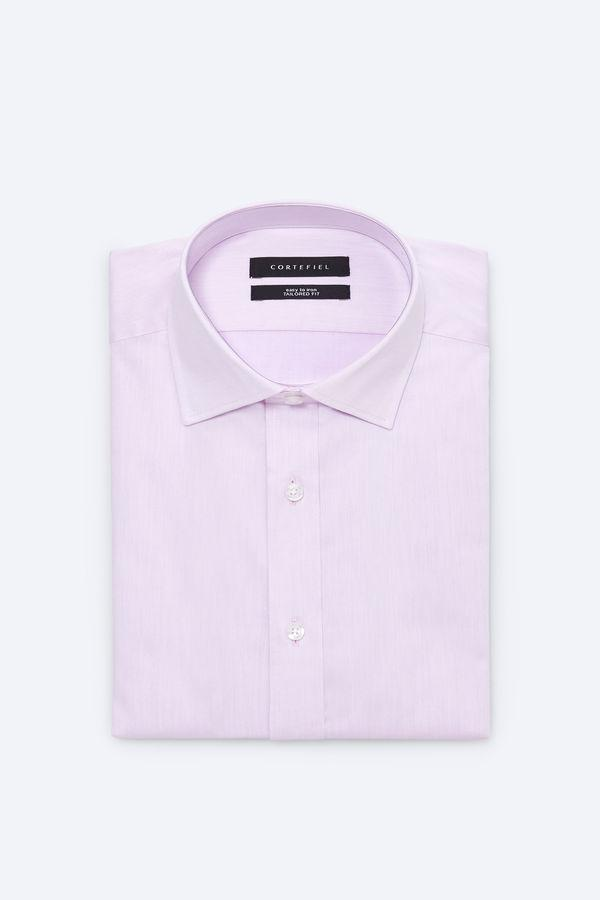teeshirt: (93, 197, 505, 763)
